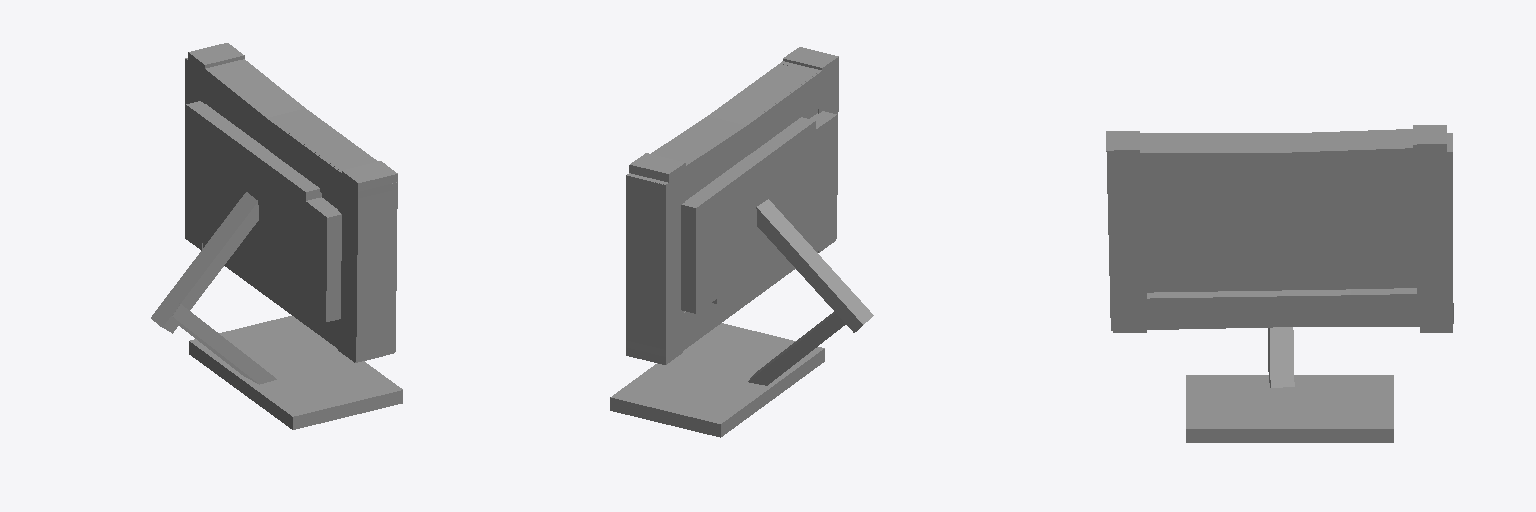
The model's file is Monitor.obj.
The picture shows the model from 3 angles: view 1: azimuth 30°, elevation 25°; view 2: azimuth 150°, elevation 25°; view 3: azimuth 270°, elevation 25°; orthographic projection.
Visible parts, largest first — view 1: Cube.002_Cube.006, Cube; view 2: Cube.002_Cube.006, Cube; view 3: Cube.002_Cube.006, Cube.
Part boxes in pixels (bbox=[...]): Cube.002_Cube.006: bbox=[151, 43, 402, 429]; Cube: bbox=[203, 113, 382, 362]; Cube.002_Cube.006: bbox=[610, 47, 873, 437]; Cube: bbox=[683, 64, 819, 350]; Cube.002_Cube.006: bbox=[1106, 125, 1453, 442]; Cube: bbox=[1140, 134, 1419, 326].
Bounding box in the file's own units: 4.48 × 5.92 × 6.7.